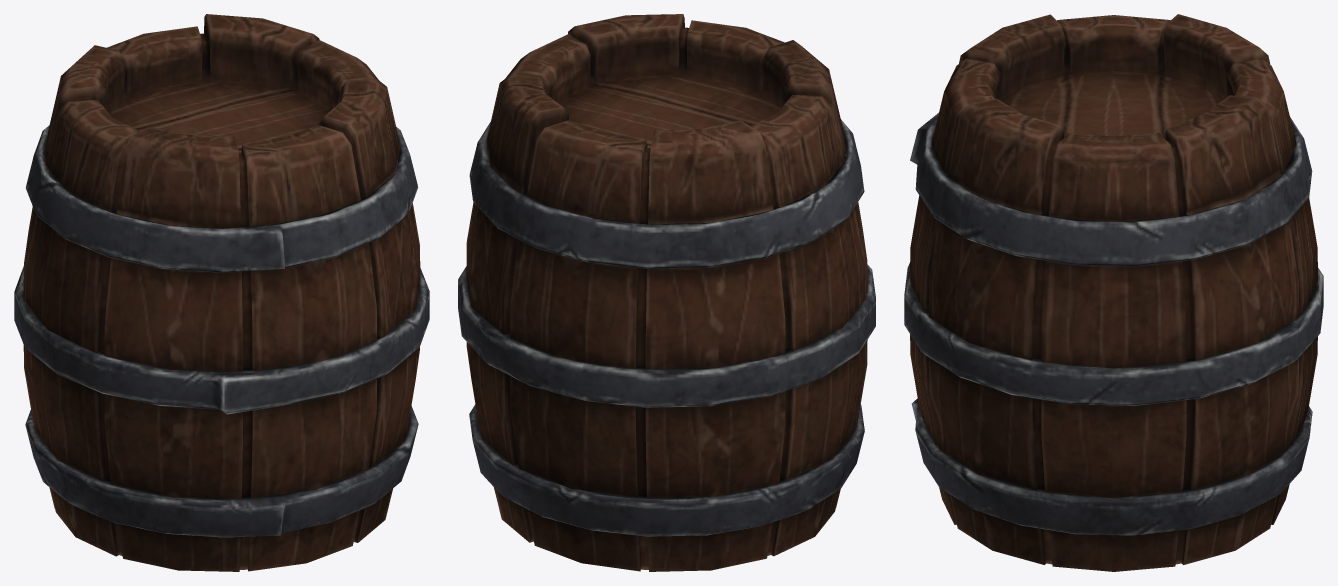
The model's file is map_barrel.glb.
3 renders of one model, left to right at view 1: azimuth 30°, elevation 25°; view 2: azimuth 150°, elevation 25°; view 3: azimuth 270°, elevation 25°, orthographic.
Parts seen in each view (by area): view 1: Barrel; view 2: Barrel; view 3: Barrel.
Part boxes in pixels (x1,y1,x2,y2): Barrel: (14,14,429,571); Barrel: (458,14,875,571); Barrel: (904,14,1323,571).
Bounding box in the file's own units: 0.8854 × 1 × 0.8854.
1 material, 1 textured.
